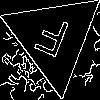F: (29, 13, 72, 68)
